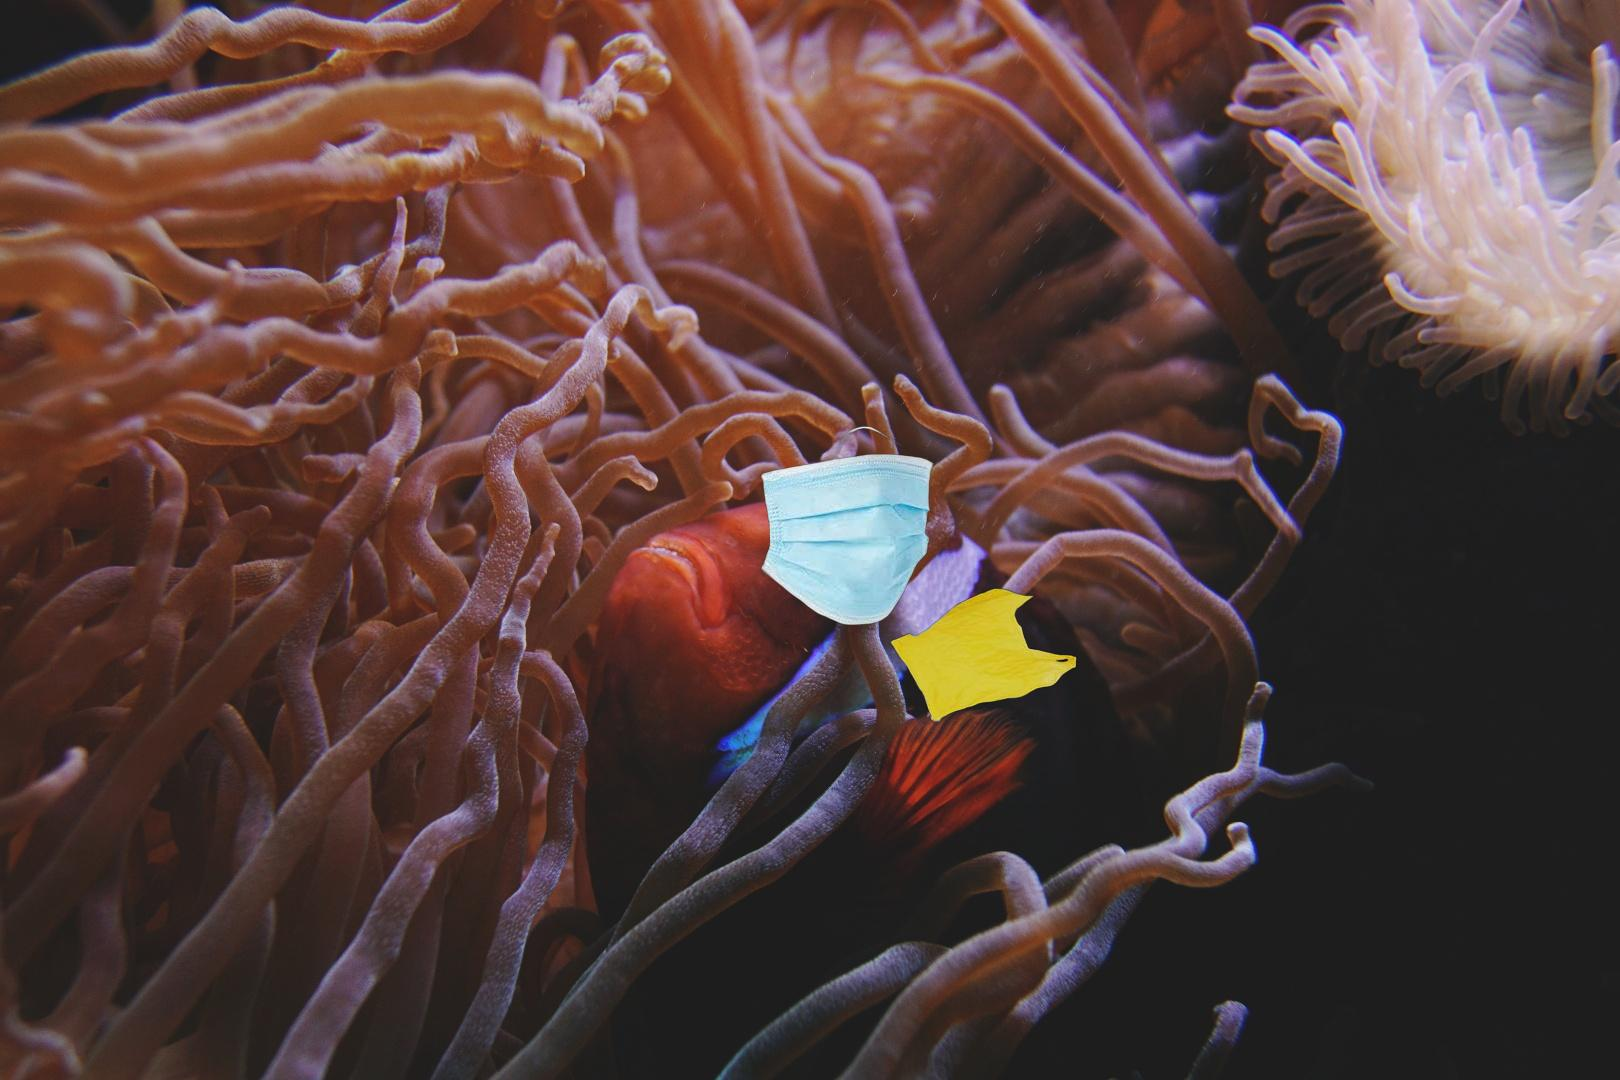plastic-bag: (887, 499, 1126, 724)
trash: (758, 424, 937, 627)
